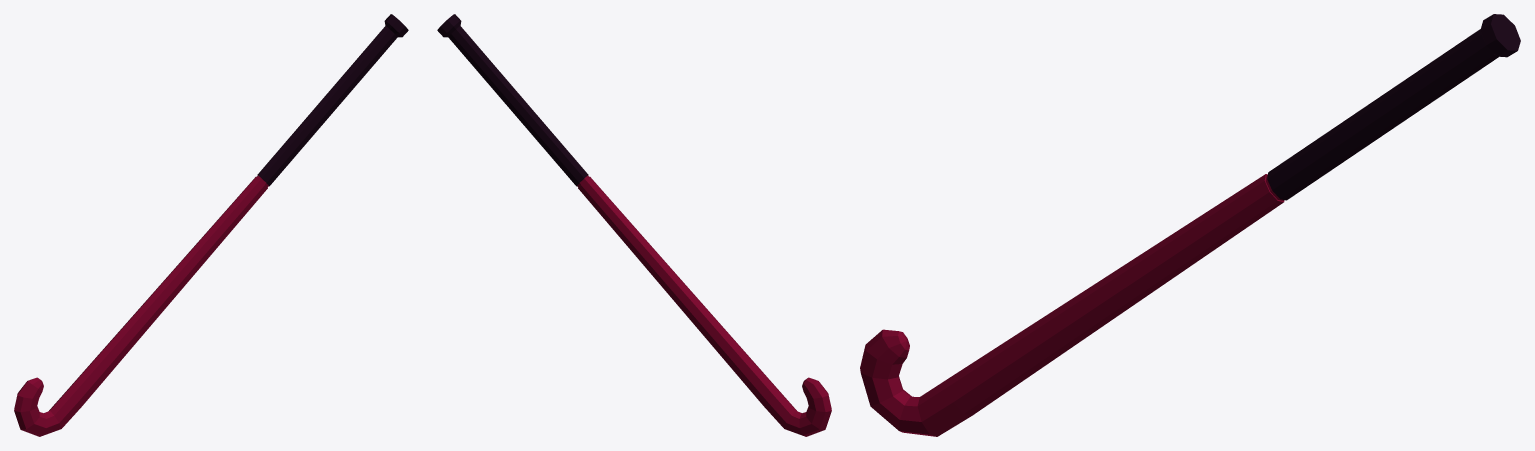
File: FieldHockey_01.fbx
3 renders of one model, left to right at view 1: azimuth 30°, elevation 25°; view 2: azimuth 150°, elevation 25°; view 3: azimuth 330°, elevation 25°, orthographic. The views are drawn at different scales.
Parts seen in each view (by area): view 1: FieldHockey_01; view 2: FieldHockey_01; view 3: FieldHockey_01.
Boxes of the visible parts, x1,y1,x2,y2 form: FieldHockey_01: [14, 14, 408, 436]; FieldHockey_01: [437, 14, 831, 436]; FieldHockey_01: [860, 14, 1520, 436].
Bounding box in the file's own units: 11.86 × 9.69 × 0.5746.
